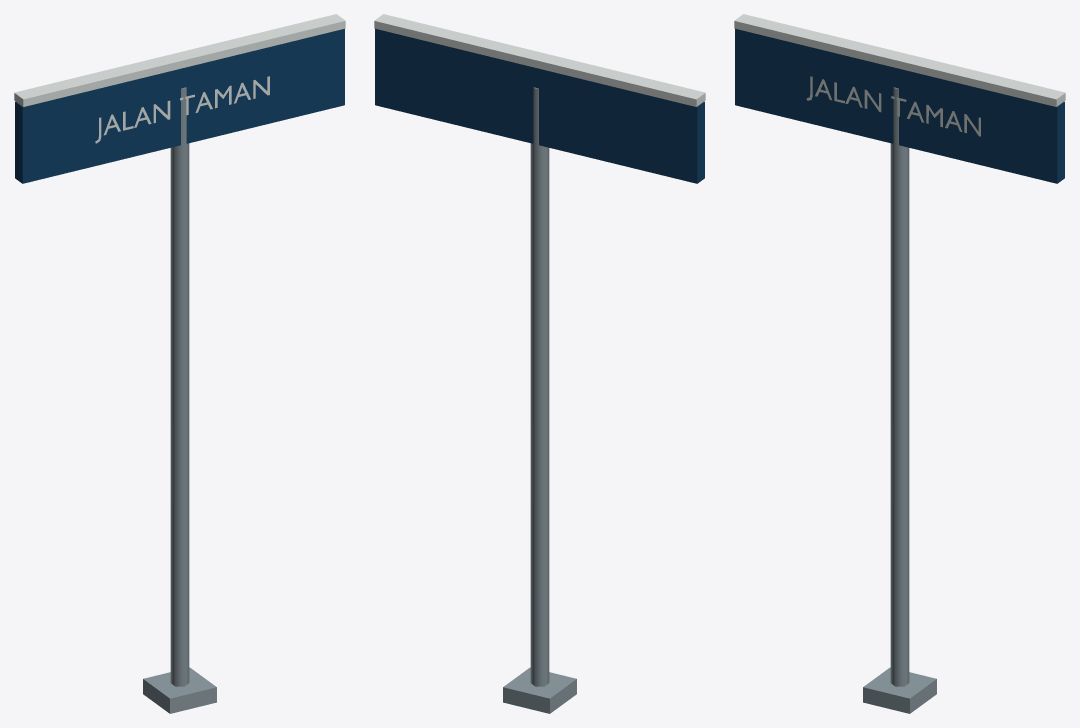
File: street_sign.glb
The picture shows the model from 3 angles, left to right: view 1: azimuth 30°, elevation 25°; view 2: azimuth 150°, elevation 25°; view 3: azimuth 330°, elevation 25°; orthographic projection.
Visible parts, largest first — view 1: plate.001, metal, plate; view 2: plate.001, metal, plate; view 3: plate.001, metal, plate.
Part boxes in pixels (left/top/right/bottom): plate.001: left=15, top=28, right=344, bottom=183; metal: left=143, top=87, right=216, bottom=713; plate: left=14, top=14, right=345, bottom=143; plate.001: left=375, top=28, right=704, bottom=183; metal: left=503, top=87, right=576, bottom=713; plate: left=374, top=14, right=705, bottom=106; plate.001: left=735, top=28, right=1064, bottom=183; metal: left=863, top=87, right=936, bottom=713; plate: left=734, top=14, right=1065, bottom=136.
Bounding box in the file's own units: 1.1 × 2.09 × 0.16.
